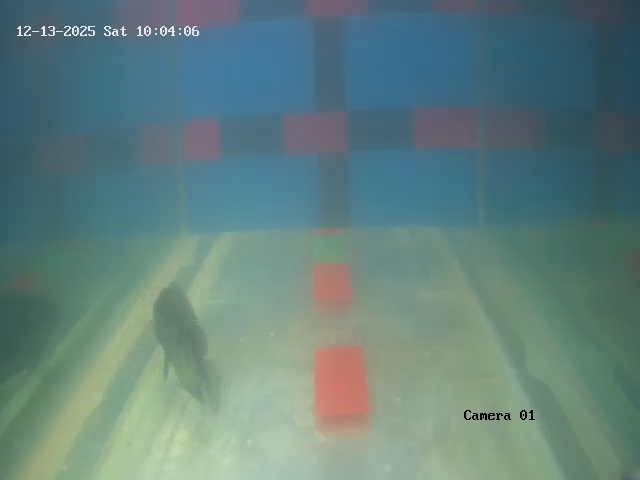fish: (151, 284, 207, 389)
